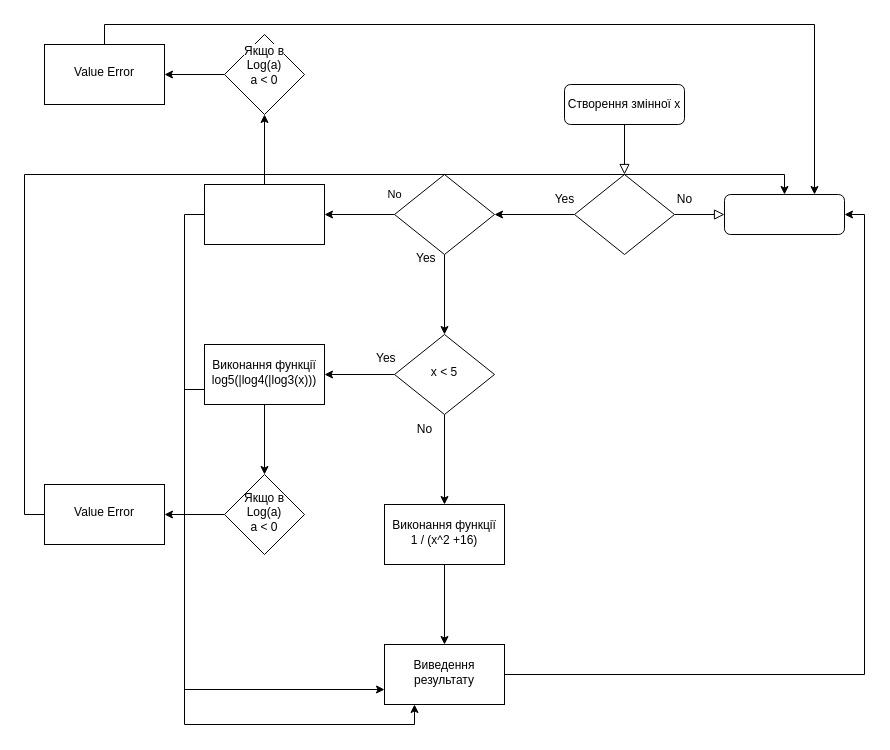
Image size: 890x750. Some labels were removed from this diagram. The shapes that lost their labels are listed below. From the top down, each one's centre as x and y in pixels, then its label:
At (264,214): "Виконання функції ln(x) + cos(x)".
At (444,214): "x < 7".
At (624,214): "x <= 8".
At (784,214): "Цикл завершено".
